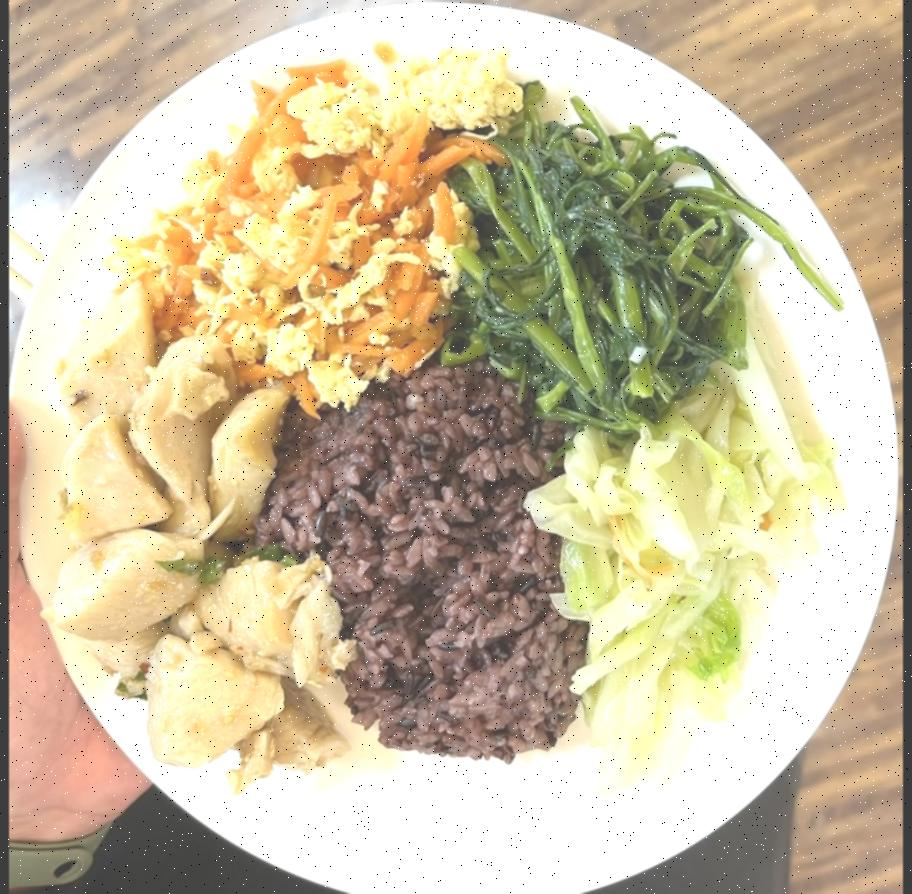big fried chicken leg: (15, 11, 903, 894)
braised fish: (276, 356, 576, 760)
braised fish fillet: (534, 356, 834, 807), (122, 44, 510, 382), (459, 108, 740, 428)
braised pork: (51, 292, 354, 786)
